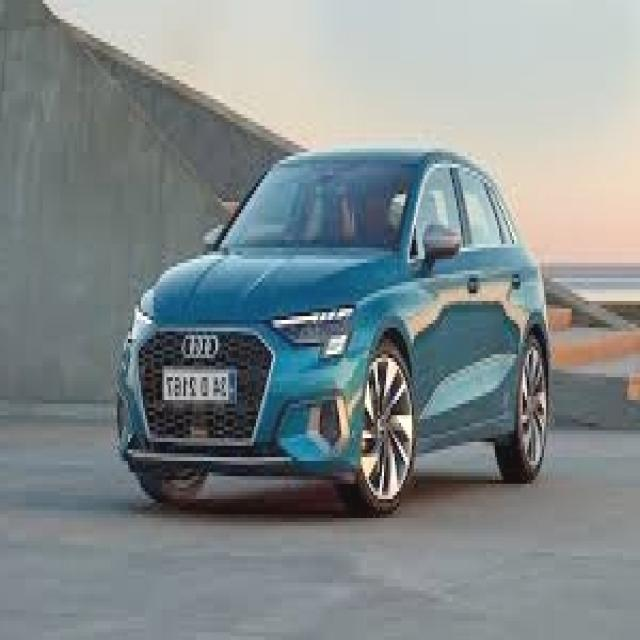blue: (114, 150, 549, 492)
